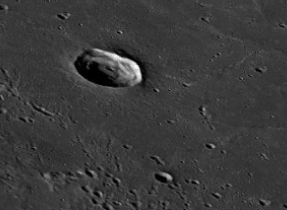crater: (28, 31, 179, 114)
